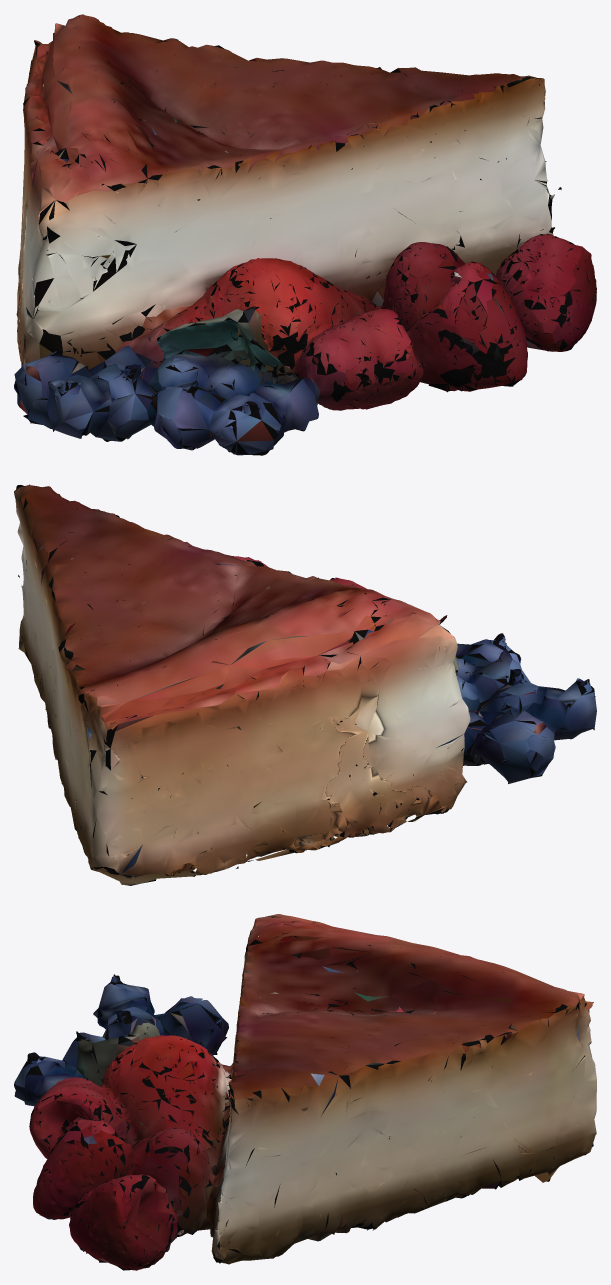
Rendered from cardamomo-cheesecake-porcion.glb.
3 views of the same model, one above another, from view 1: azimuth 30°, elevation 25°; view 2: azimuth 150°, elevation 25°; view 3: azimuth 270°, elevation 25° (orthographic). The views are drawn at different scales.
Parts seen in each view (by area): view 1: lo; view 2: lo; view 3: lo.
Boxes of the visible parts, <box> form: lo: <box>14,14,596,455</box>; lo: <box>14,484,596,885</box>; lo: <box>14,914,596,1270</box>.
Size of the model in its own units: 0.11 by 0.0417 by 0.1113.
1 material, 1 textured.
